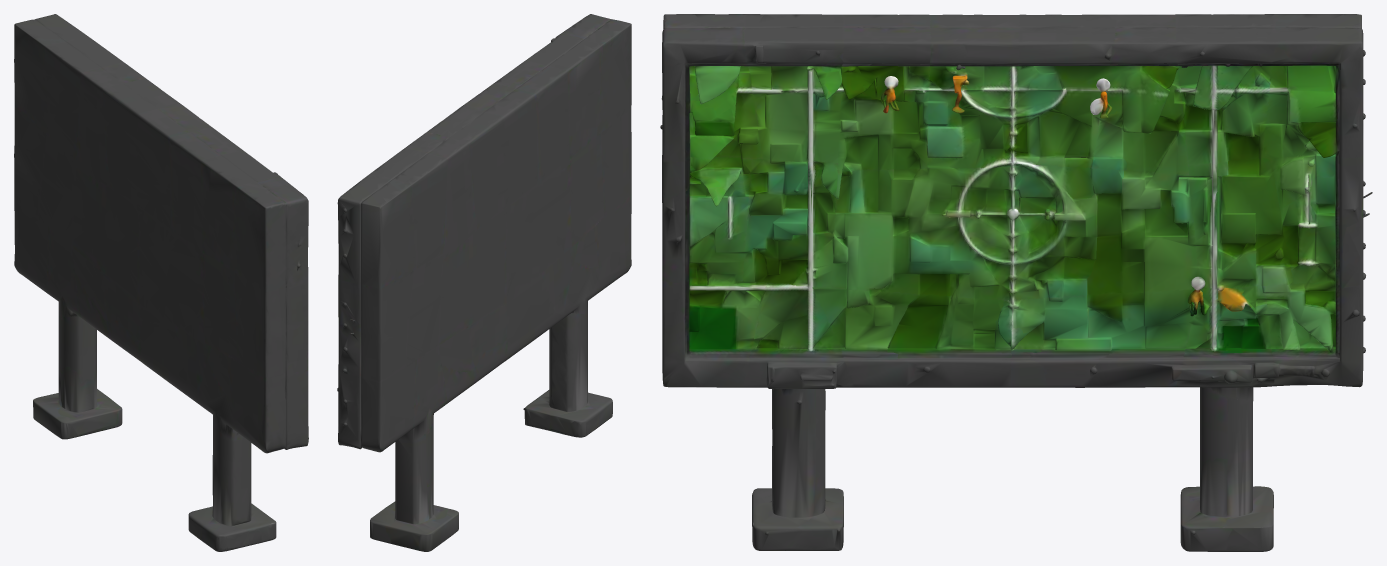
The model's file is scoreboard.glb.
3 renders of one model, left to right at view 1: azimuth 30°, elevation 25°; view 2: azimuth 150°, elevation 25°; view 3: azimuth 270°, elevation 25°, orthographic. The views are drawn at different scales.
Visible parts, largest first — view 1: tripo_node_137a6acd-67f1-42fb-a3ad-9a2f6e86658f; view 2: tripo_node_137a6acd-67f1-42fb-a3ad-9a2f6e86658f; view 3: tripo_node_137a6acd-67f1-42fb-a3ad-9a2f6e86658f.
Boxes of the visible parts, box(x1,y1,x2,y2) form: tripo_node_137a6acd-67f1-42fb-a3ad-9a2f6e86658f: box(14, 14, 308, 551); tripo_node_137a6acd-67f1-42fb-a3ad-9a2f6e86658f: box(337, 14, 631, 551); tripo_node_137a6acd-67f1-42fb-a3ad-9a2f6e86658f: box(660, 14, 1372, 551).
Size of the model in its own units: 0.1537 by 0.788 by 0.9999.
1 material, 1 textured.
